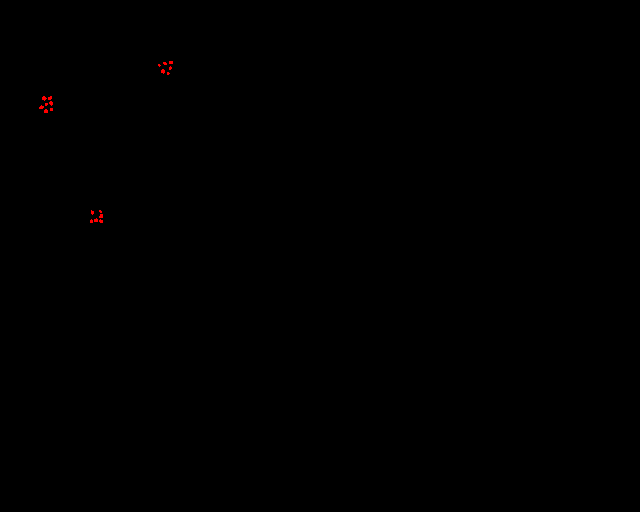Target: (42, 96, 47, 101), (161, 69, 165, 74), (49, 101, 53, 106), (39, 105, 44, 109), (48, 96, 52, 100), (44, 109, 48, 113), (99, 214, 103, 218), (94, 218, 98, 222), (99, 219, 103, 223), (91, 210, 94, 215), (169, 61, 173, 64), (163, 62, 167, 65), (169, 66, 172, 70), (90, 219, 93, 223), (158, 64, 161, 67), (167, 72, 170, 75), (45, 103, 48, 106), (50, 108, 53, 111), (99, 210, 102, 213)
